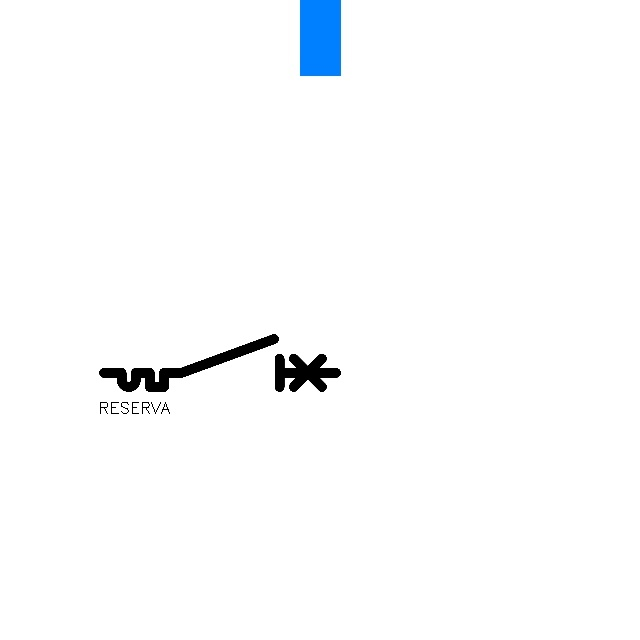interruptor_termomagnetico: (98, 333, 342, 393)
